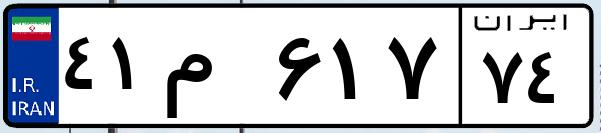1: (330, 28, 385, 110), (110, 28, 158, 98)
4: (57, 26, 110, 100), (525, 38, 570, 115)
6: (270, 28, 330, 110)
7: (385, 28, 445, 110), (475, 38, 525, 113)
م: (158, 20, 270, 120)
